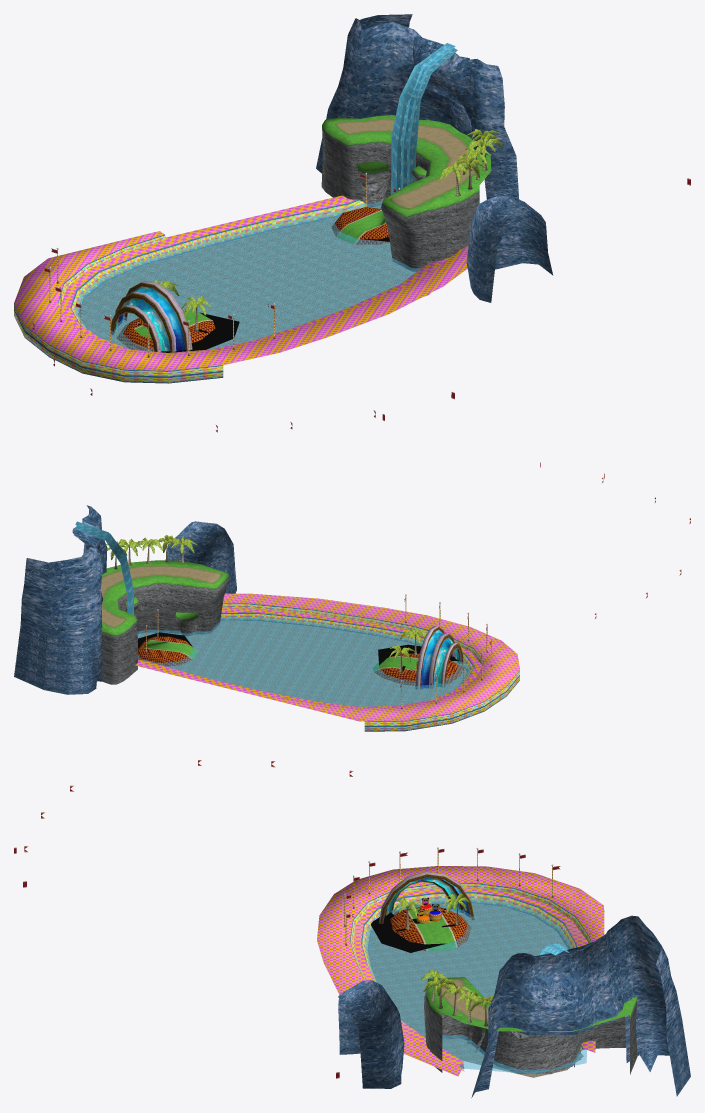
The model's file is track4.obj.
3 renders of one model, top to bottom at view 1: azimuth 30°, elevation 25°; view 2: azimuth 150°, elevation 25°; view 3: azimuth 270°, elevation 25°, orthographic. The views are drawn at different scales.
Visible parts, largest first — view 1: object_3099B30.001, object_302BD6C.001, object_302AEA0.001, object_305B590.001, object_304F1E8.001, object_3029FF4.001, object_305C3CC.001, object_3074004.001, object_30699B4.001, object_308BCC4.001, object_308B07C.001, object_305027C.001 (+1 smaller); view 2: object_3099B30.001, object_302BD6C.001, object_305B590.001, object_302AEA0.001, object_304F1E8.001, object_3029FF4.001, object_305C3CC.001, object_30699B4.001, object_308BCC4.001, object_308B07C.001, object_3074004.001, object_30764FC.001 (+1 smaller); view 3: object_305B590.001, object_3099B30.001, object_302BD6C.001, object_302AEA0.001, object_304F1E8.001, object_305C3CC.001, object_3029FF4.001, object_308B07C.001, object_30699B4.001, object_30764FC.001.
Boxes of the visible parts, x1,y1,x2,y2 form: object_3099B30.001: (75,202,419,351); object_302BD6C.001: (79,205,415,349); object_302AEA0.001: (14,231,468,383); object_305B590.001: (316,14,519,199); object_304F1E8.001: (321,115,491,271); object_3029FF4.001: (61,195,449,353); object_305C3CC.001: (466,195,553,302); object_3074004.001: (391,43,457,194); object_30699B4.001: (111,281,192,352); object_308BCC4.001: (331,207,388,244); object_308B07C.001: (116,310,215,351); object_305027C.001: (357,161,390,207); object_3099B30.001: (137,617,470,706); object_302BD6C.001: (137,620,467,706); object_305B590.001: (14,505,107,694); object_302AEA0.001: (222,593,519,731); object_304F1E8.001: (101,560,229,684); object_3029FF4.001: (135,608,481,721); object_305C3CC.001: (165,521,236,593); object_30699B4.001: (415,626,463,689); object_308BCC4.001: (138,636,197,666); object_308B07C.001: (373,653,462,685); object_3074004.001: (75,521,133,614); object_30764FC.001: (138,632,461,671); object_305B590.001: (471,915,690,1097); object_3099B30.001: (365,897,586,1074); object_302BD6C.001: (368,903,583,1077); object_302AEA0.001: (317,866,604,1076); object_304F1E8.001: (424,977,637,1074); object_305C3CC.001: (338,980,404,1088); object_3029FF4.001: (353,888,595,1068); object_308B07C.001: (390,907,471,951); object_30699B4.001: (379,871,474,923); object_30764FC.001: (370,911,457,952).
Size of the model in its own units: 114 by 26.99 by 107.
